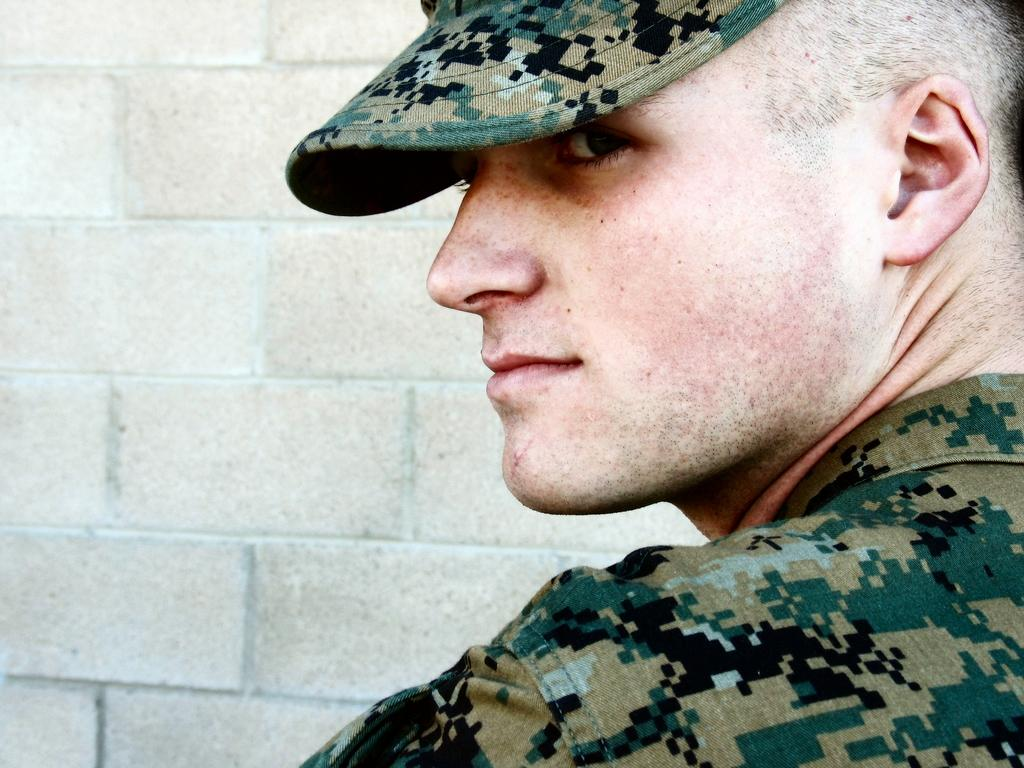Hat: (284, 0, 784, 219)
